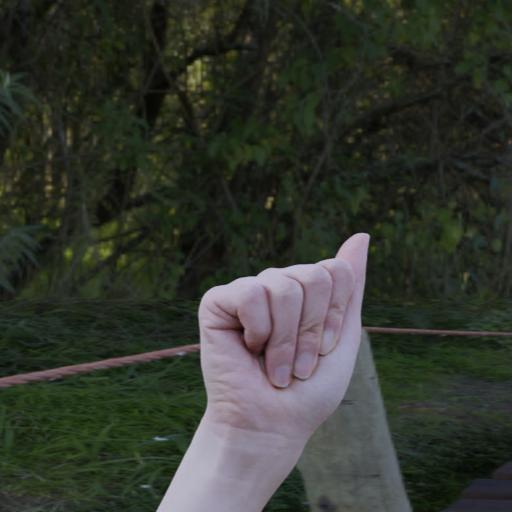A: (186, 216, 382, 442)
